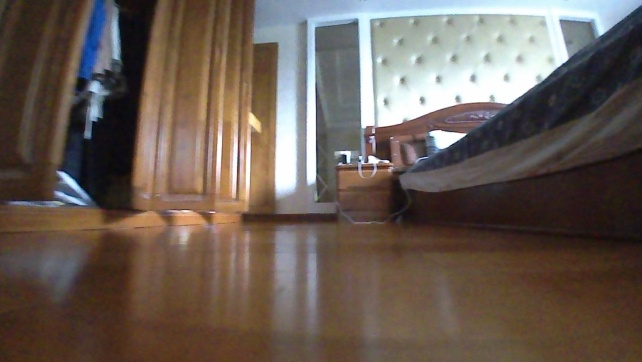bed: (363, 5, 641, 241)
cabinet: (335, 160, 395, 225)
wire: (334, 155, 429, 226), (356, 160, 378, 179)
